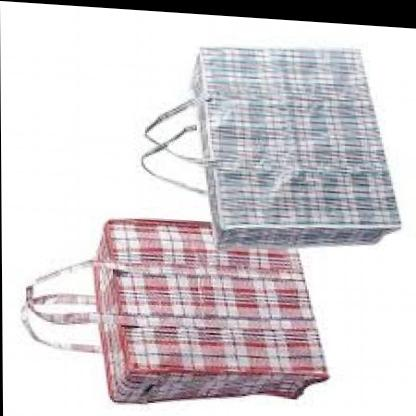Plastic: (6, 195, 338, 416), (122, 20, 406, 247)
